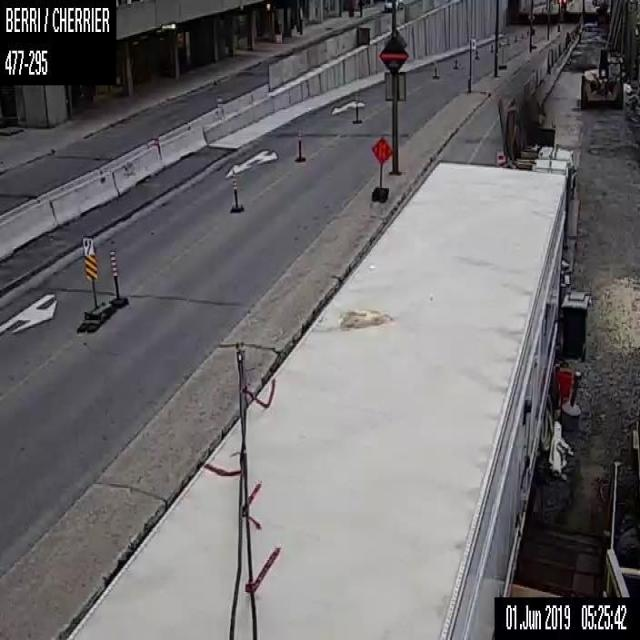construction: (370, 136, 392, 201), (110, 246, 118, 300), (231, 166, 237, 206), (297, 126, 301, 157), (355, 90, 358, 120), (433, 57, 436, 76), (497, 37, 501, 47), (489, 42, 493, 51), (474, 48, 477, 59), (454, 51, 456, 66), (506, 36, 509, 44), (520, 30, 523, 38), (513, 33, 516, 40)
